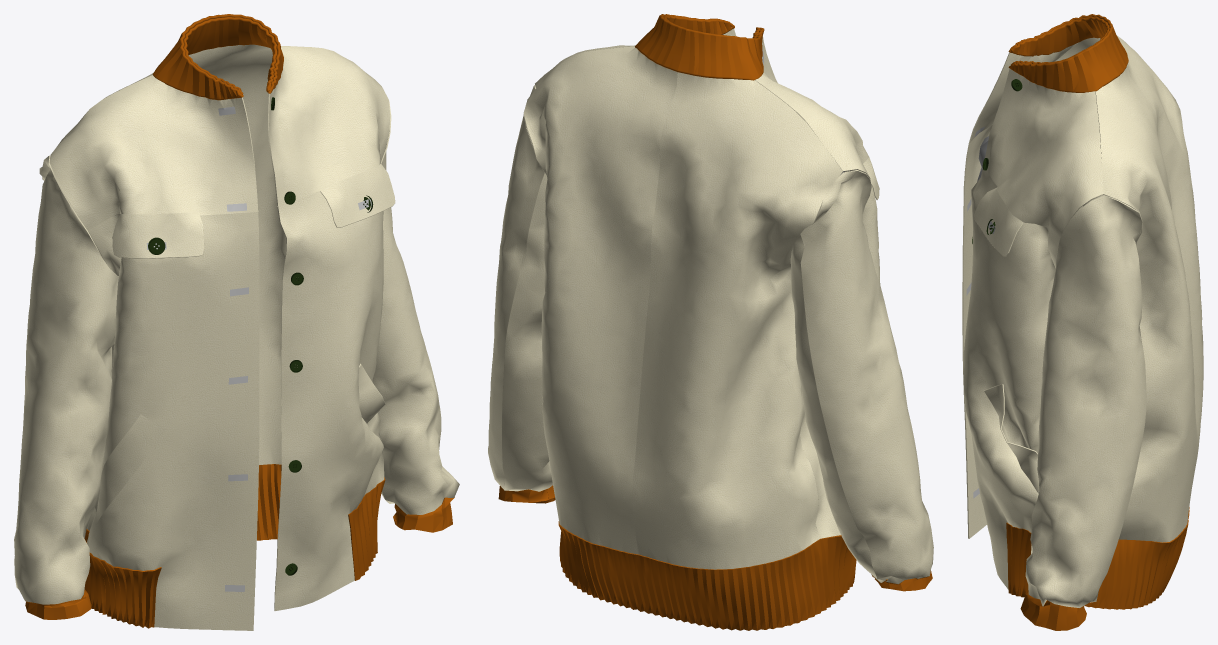
3 renders of one model, left to right at view 1: azimuth 30°, elevation 25°; view 2: azimuth 150°, elevation 25°; view 3: azimuth 270°, elevation 25°, orthographic. The views are drawn at different scales.
Parts seen in each view (by area): view 1: Pattern2D_1837298, Pattern2D_1838969, Pattern2D_151044, Pattern2D_1836421, Pattern2D_1838186, Pattern2D_151596, Pattern2D_208893, Pattern2D_685601, Pattern2D_1670793 (×2), Pattern2D_628894, Pattern2D_1432111, Pattern2D_688424 (+2 smaller); view 2: Pattern2D_523797, Pattern2D_208893, Pattern2D_151044, Pattern2D_685601, Pattern2D_151521, Pattern2D_151596, Pattern2D_1670793 (×2), Pattern2D_151251, Pattern2D_1836421, Pattern2D_1837298, Pattern2D_688424; view 3: Pattern2D_151596, Pattern2D_208893, Pattern2D_1838969, Pattern2D_1838186, Pattern2D_523797, Pattern2D_1670793 (×2), Pattern2D_685601, Pattern2D_1837298, Pattern2D_1432111, Pattern2D_1836421, Pattern2D_688424, Pattern2D_1843263.
Part boxes in pixels (<box>): Pattern2D_1837298: <box>87,211,259,630</box>; Pattern2D_1838969: <box>274,191,384,610</box>; Pattern2D_151044: <box>14,155,118,604</box>; Pattern2D_1836421: <box>49,75,258,230</box>; Pattern2D_1838186: <box>268,46,390,206</box>; Pattern2D_151596: <box>373,100,459,514</box>; Pattern2D_208893: <box>199,44,318,464</box>; Pattern2D_685601: <box>84,464,385,628</box>; Pattern2D_1670793 (×2): <box>152,14,283,100</box>; Pattern2D_628894: <box>112,212,204,258</box>; Pattern2D_1432111: <box>320,164,395,227</box>; Pattern2D_688424: <box>393,497,454,532</box>; Pattern2D_523797: <box>632,72,842,569</box>; Pattern2D_208893: <box>523,46,677,554</box>; Pattern2D_151044: <box>800,170,933,584</box>; Pattern2D_685601: <box>558,521,856,630</box>; Pattern2D_151521: <box>501,173,552,491</box>; Pattern2D_151596: <box>488,85,544,490</box>; Pattern2D_1670793 (×2): <box>635,14,764,80</box>; Pattern2D_151251: <box>790,234,884,582</box>; Pattern2D_1836421: <box>755,36,870,178</box>; Pattern2D_1837298: <box>800,185,880,538</box>; Pattern2D_688424: <box>498,485,555,503</box>; Pattern2D_151596: <box>1025,195,1146,607</box>; Pattern2D_208893: <box>1095,64,1198,542</box>; Pattern2D_1838969: <box>963,168,1058,589</box>; Pattern2D_1838186: <box>985,69,1103,246</box>; Pattern2D_523797: <box>1083,35,1203,442</box>; Pattern2D_1670793 (×2): <box>1008,14,1128,92</box>; Pattern2D_685601: <box>1006,507,1189,609</box>; Pattern2D_1837298: <box>962,124,1082,538</box>; Pattern2D_1432111: <box>974,187,1023,256</box>; Pattern2D_1836421: <box>969,37,1100,142</box>; Pattern2D_688424: <box>1020,591,1086,630</box>; Pattern2D_1843263: <box>984,384,1039,493</box>.
Bounding box in the file's own units: 57.23 × 71.46 × 29.17.
